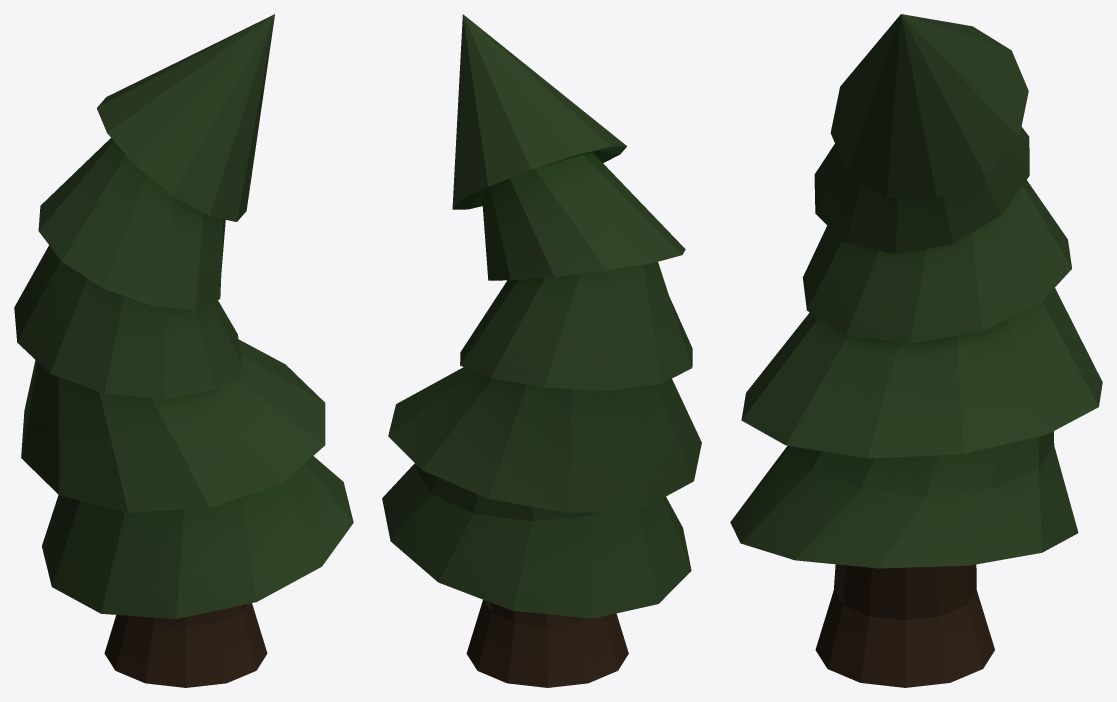
The model's file is tree1rot.obj.
3 views of the same model, side by side, from view 1: azimuth 30°, elevation 25°; view 2: azimuth 150°, elevation 25°; view 3: azimuth 270°, elevation 25° (orthographic). The views are drawn at different scales.
Visible parts, largest first — view 1: Tree1Rot_Cylinder.001_Tree1Rot_Cylinder.001_Leaves.009, Tree1Rot_Cylinder.001_Tree1Rot_Cylinder.001_Trunk.010; view 2: Tree1Rot_Cylinder.001_Tree1Rot_Cylinder.001_Leaves.009, Tree1Rot_Cylinder.001_Tree1Rot_Cylinder.001_Trunk.010; view 3: Tree1Rot_Cylinder.001_Tree1Rot_Cylinder.001_Leaves.009, Tree1Rot_Cylinder.001_Tree1Rot_Cylinder.001_Trunk.010.
Boxes of the visible parts, <box> form: Tree1Rot_Cylinder.001_Tree1Rot_Cylinder.001_Leaves.009: <box>14,14,353,619</box>; Tree1Rot_Cylinder.001_Tree1Rot_Cylinder.001_Trunk.010: <box>104,603,267,687</box>; Tree1Rot_Cylinder.001_Tree1Rot_Cylinder.001_Leaves.009: <box>382,14,701,618</box>; Tree1Rot_Cylinder.001_Tree1Rot_Cylinder.001_Trunk.010: <box>466,599,628,687</box>; Tree1Rot_Cylinder.001_Tree1Rot_Cylinder.001_Leaves.009: <box>730,14,1102,568</box>; Tree1Rot_Cylinder.001_Tree1Rot_Cylinder.001_Trunk.010: <box>815,564,994,687</box>.
Bounding box in the file's own units: 4.06 × 8.39 × 4.15.
2 materials, 2 textured.
